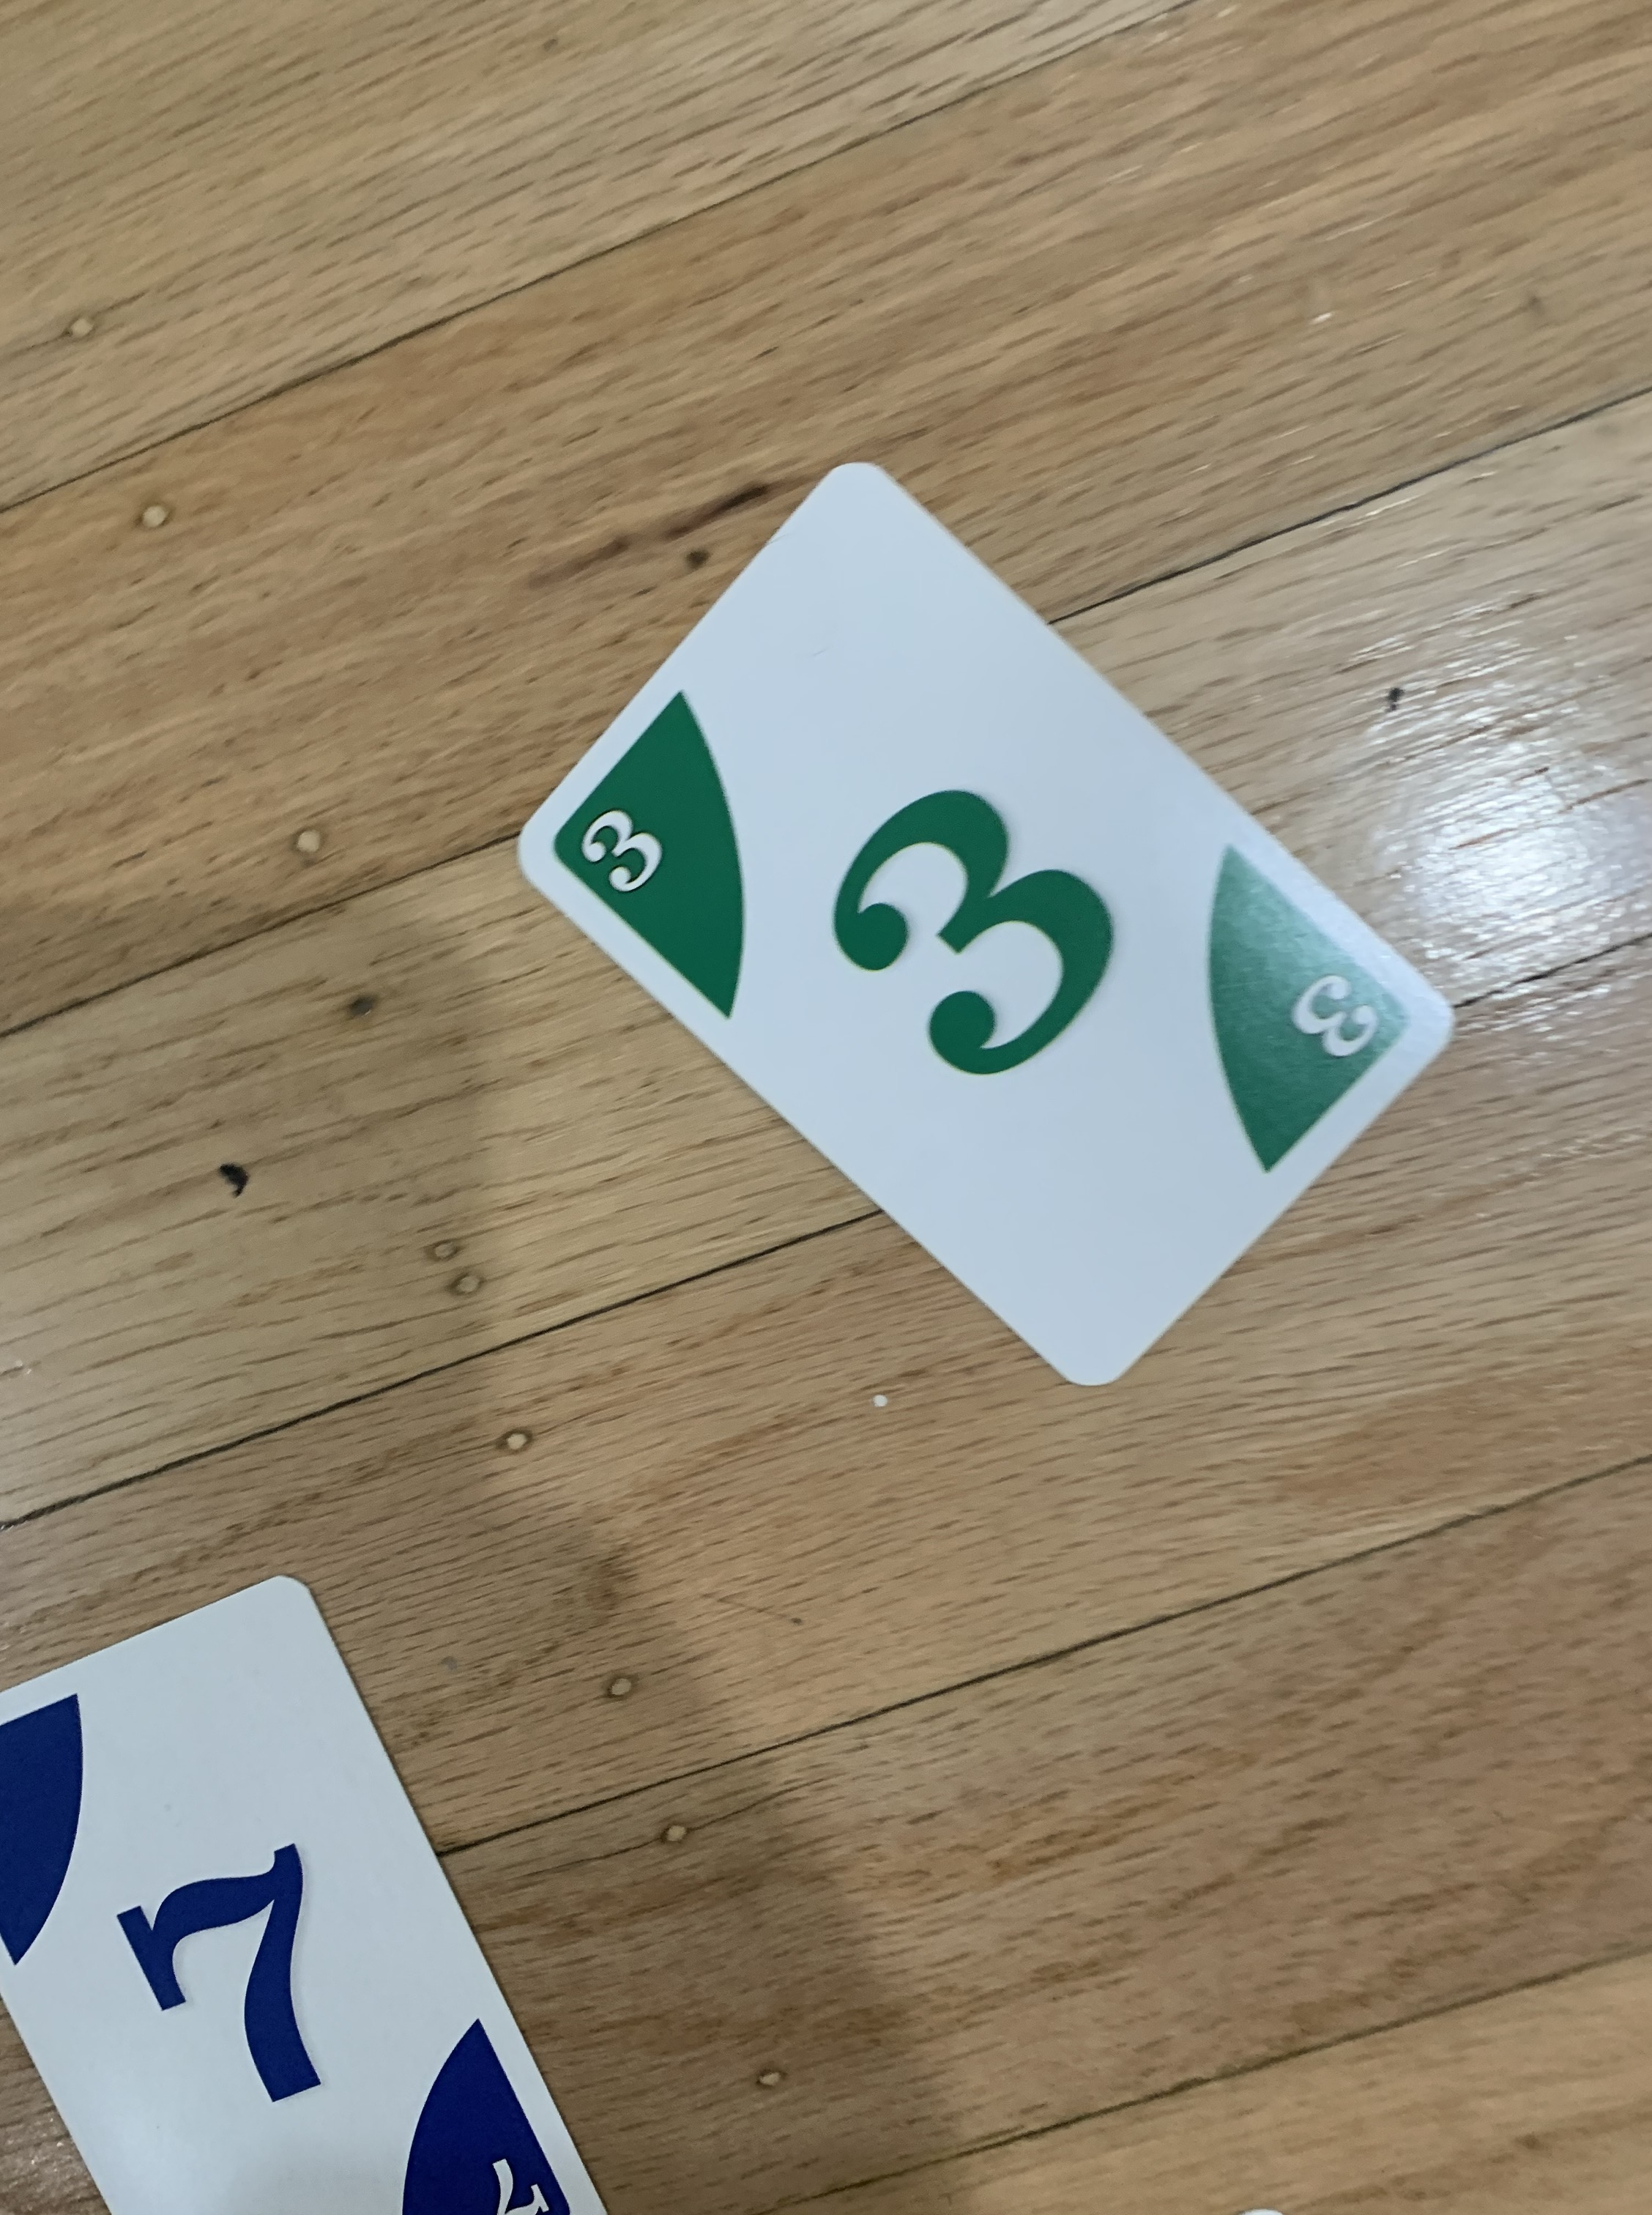seven: (7, 1569, 623, 2215)
three: (505, 460, 1465, 1397)
